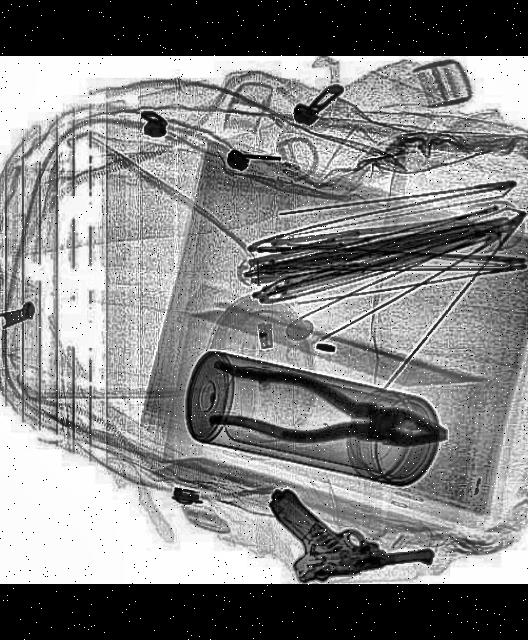Gun: (269, 466, 437, 584)
Pliers: (200, 359, 456, 471)
